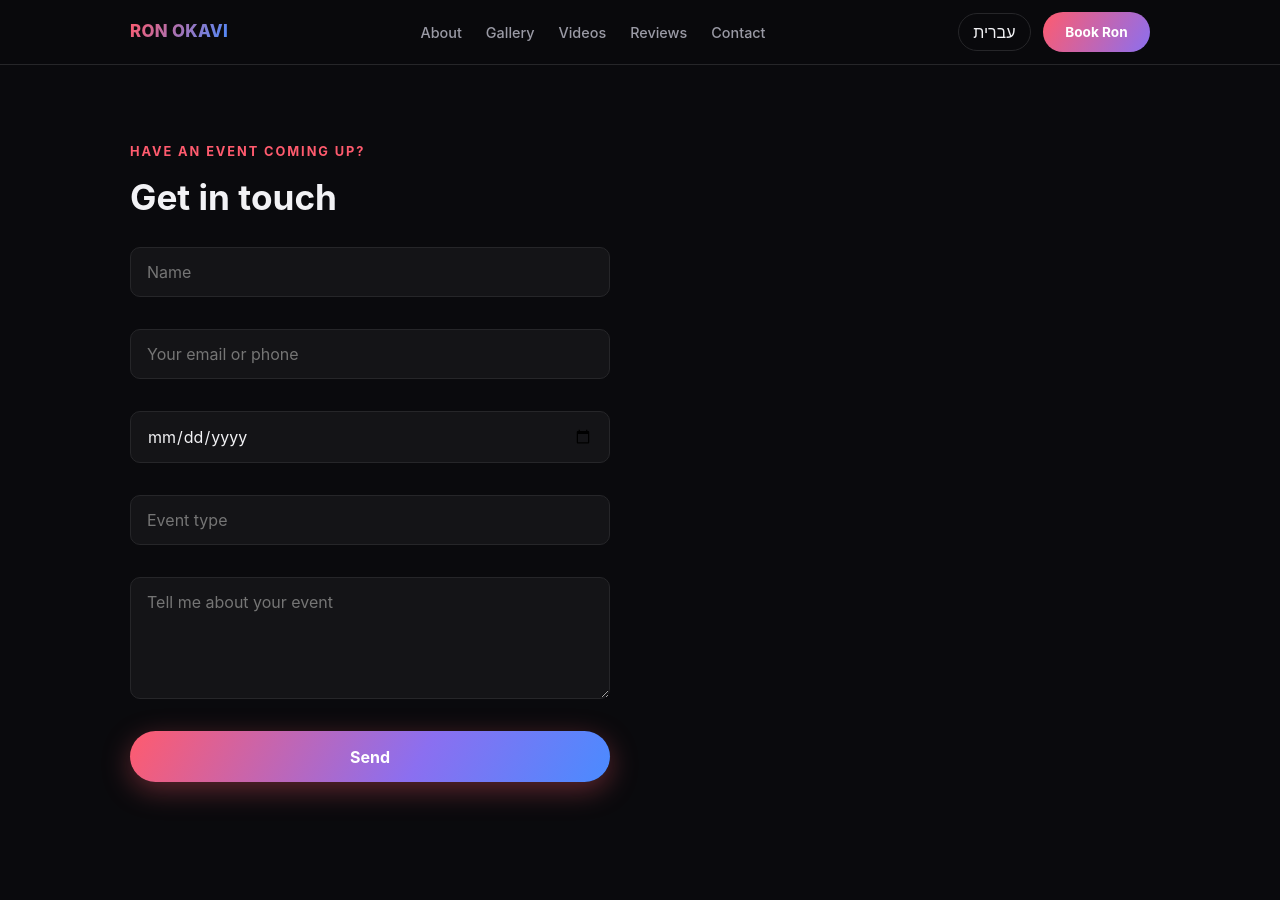
Test: Contact › clears validation messages when the language changes
Step 1. Click the button "Send" → (370, 757), box left=130, top=731, right=610, bottom=782
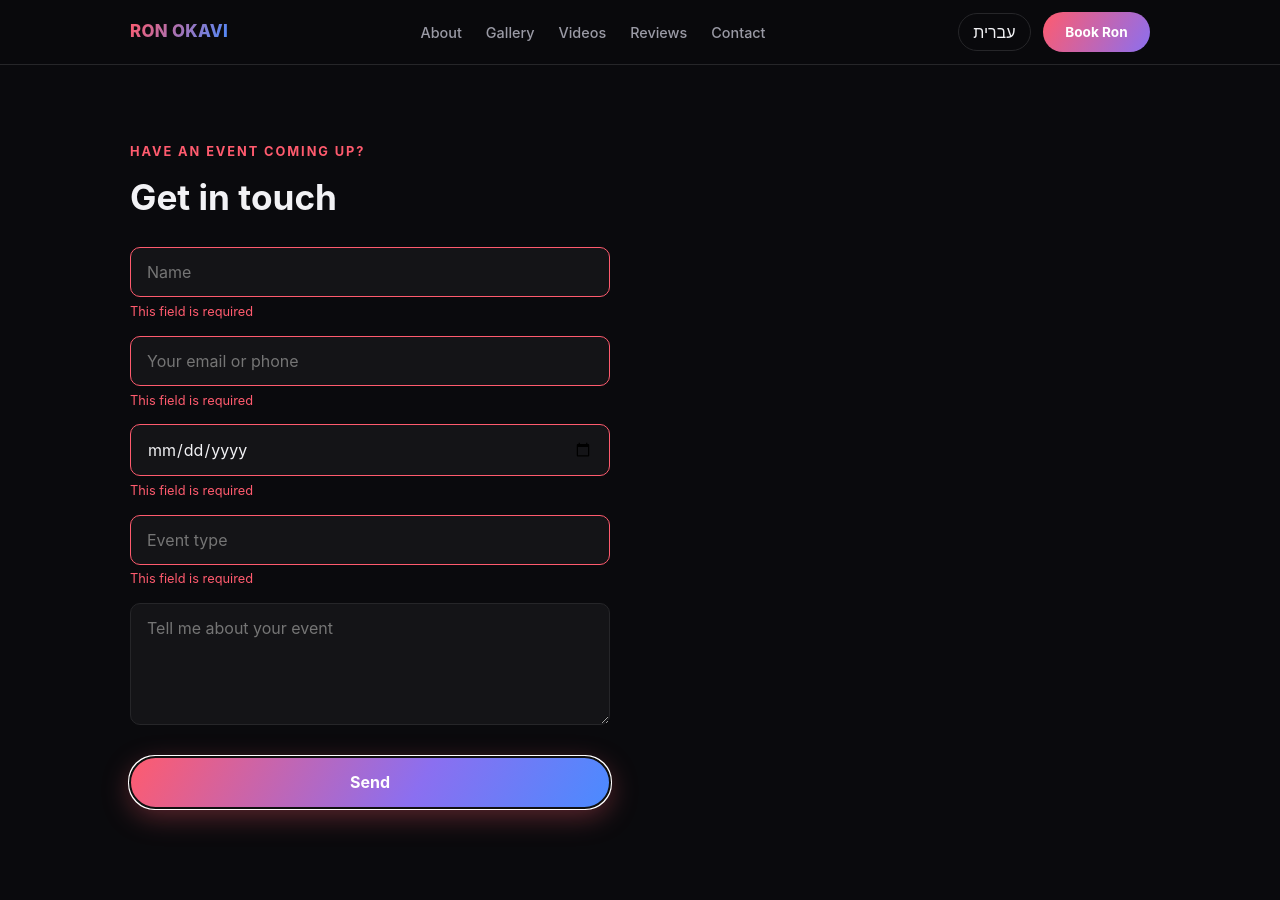
Expected: the text "This field is required" is shown 4 times, left=130, top=304, right=253, bottom=319; left=130, top=392, right=253, bottom=408; left=130, top=483, right=253, bottom=498; left=130, top=571, right=253, bottom=586
Step 2. Click the button "עברית" → (994, 32), box left=958, top=13, right=1031, bottom=51
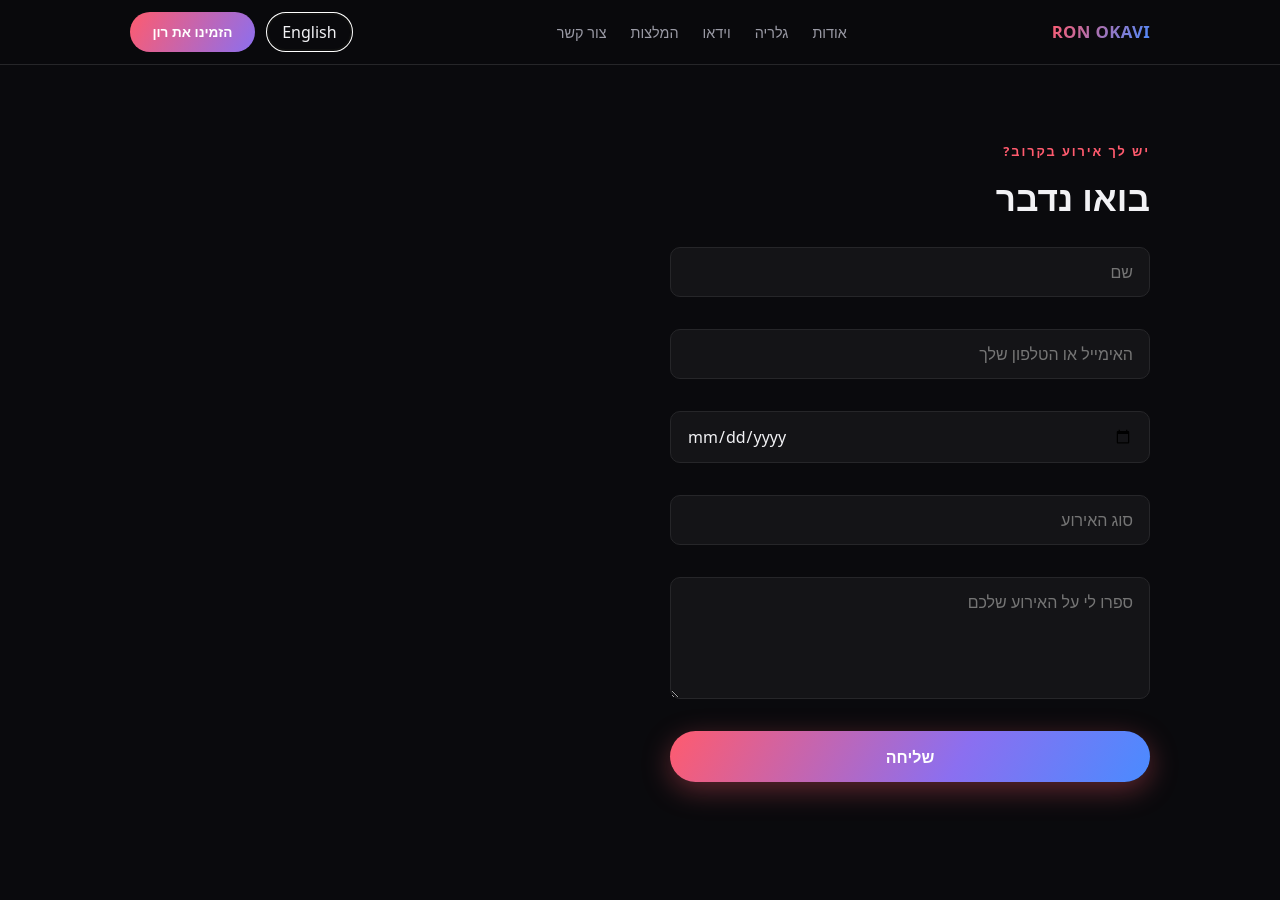
Expected: the text "This field is required" is gone
